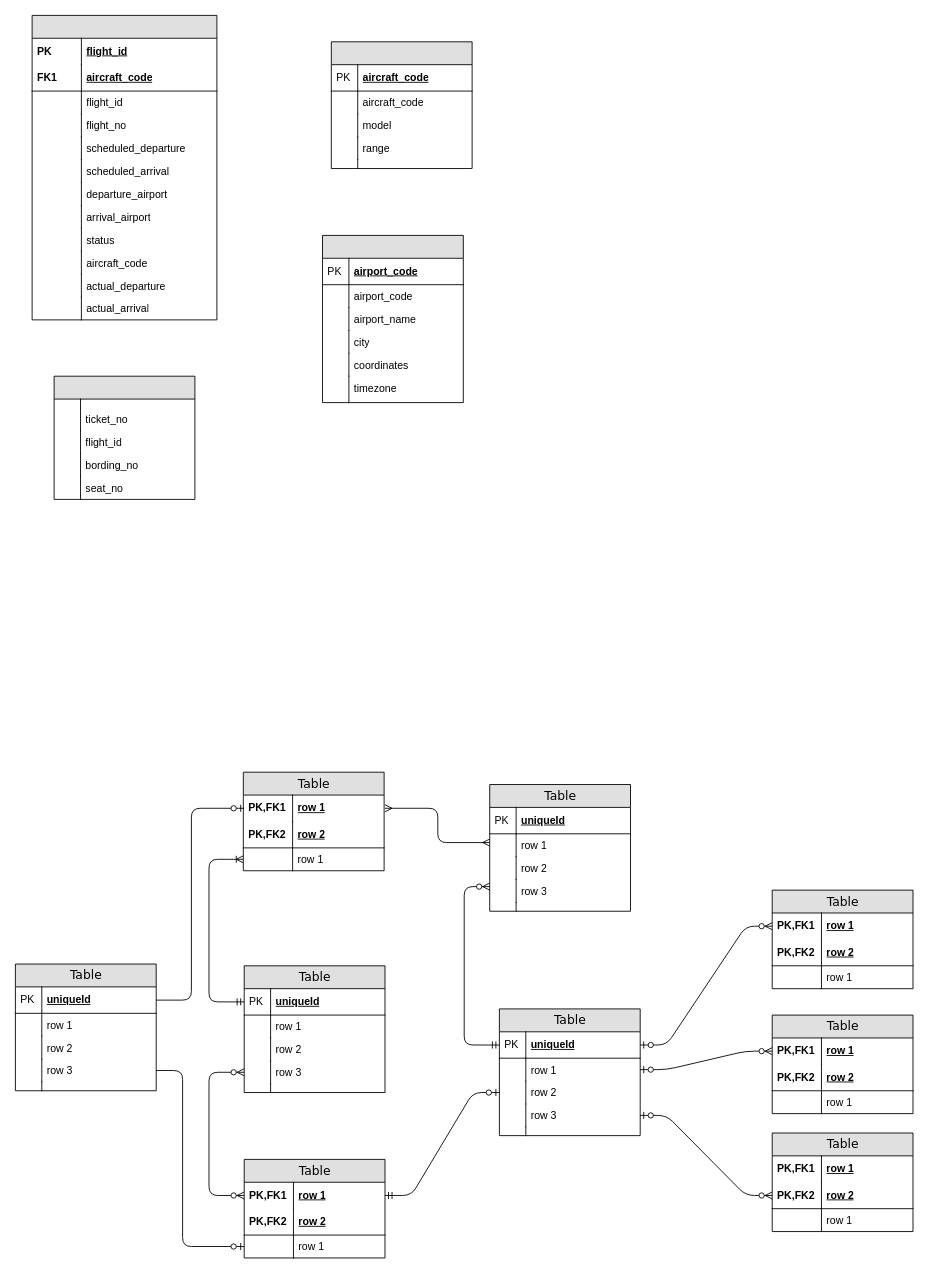
Image size: 928x1276. Some labels were removed from this diagram. The box of each missing label's shape, as (x1, y1, x2, y2) in pixels:
aircrafts_data: (330, 41, 472, 169)
airport_data: (322, 235, 463, 403)
boarding_passes: (53, 375, 195, 499)
flights: (31, 15, 217, 320)
